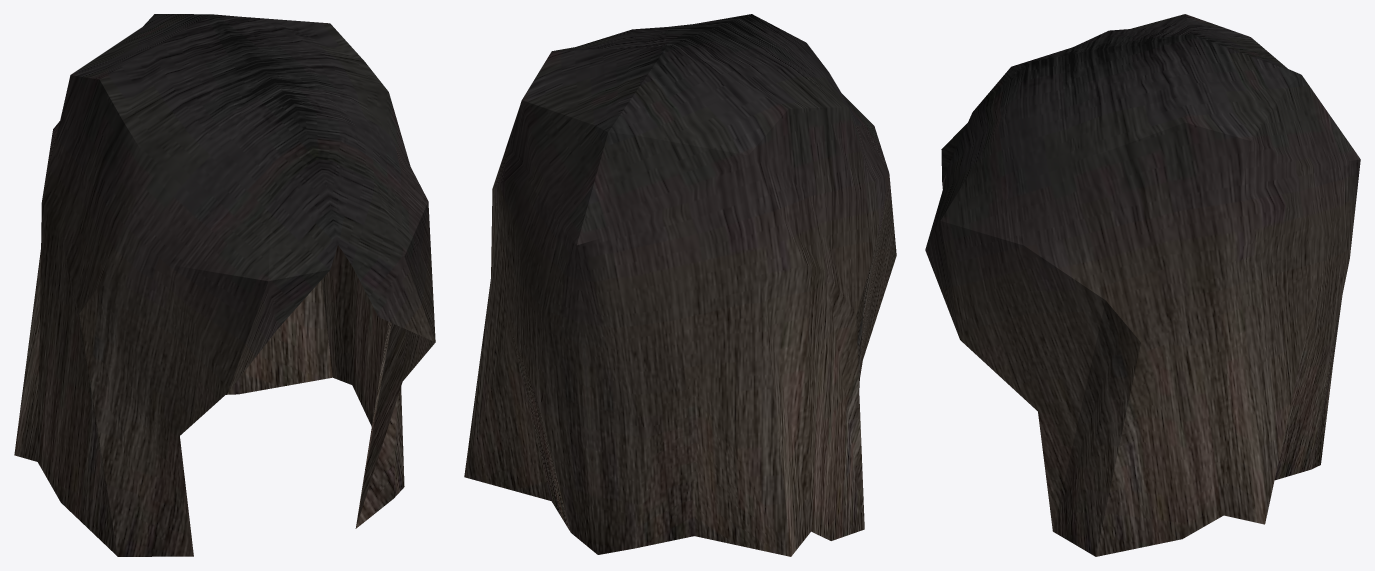
The model's file is Npc_F_Hair_S.fbx.
3 renders of one model, left to right at view 1: azimuth 30°, elevation 25°; view 2: azimuth 150°, elevation 25°; view 3: azimuth 270°, elevation 25°, orthographic. The views are drawn at different scales.
Parts seen in each view (by area): view 1: F_Hair_S; view 2: F_Hair_S; view 3: F_Hair_S.
Boxes of the visible parts, bbox=[...] form: F_Hair_S: bbox=[14, 14, 435, 556]; F_Hair_S: bbox=[464, 14, 896, 556]; F_Hair_S: bbox=[925, 14, 1360, 556].
Size of the model in its own units: 19.37 by 27.89 by 23.79.
1 material, 1 textured.
